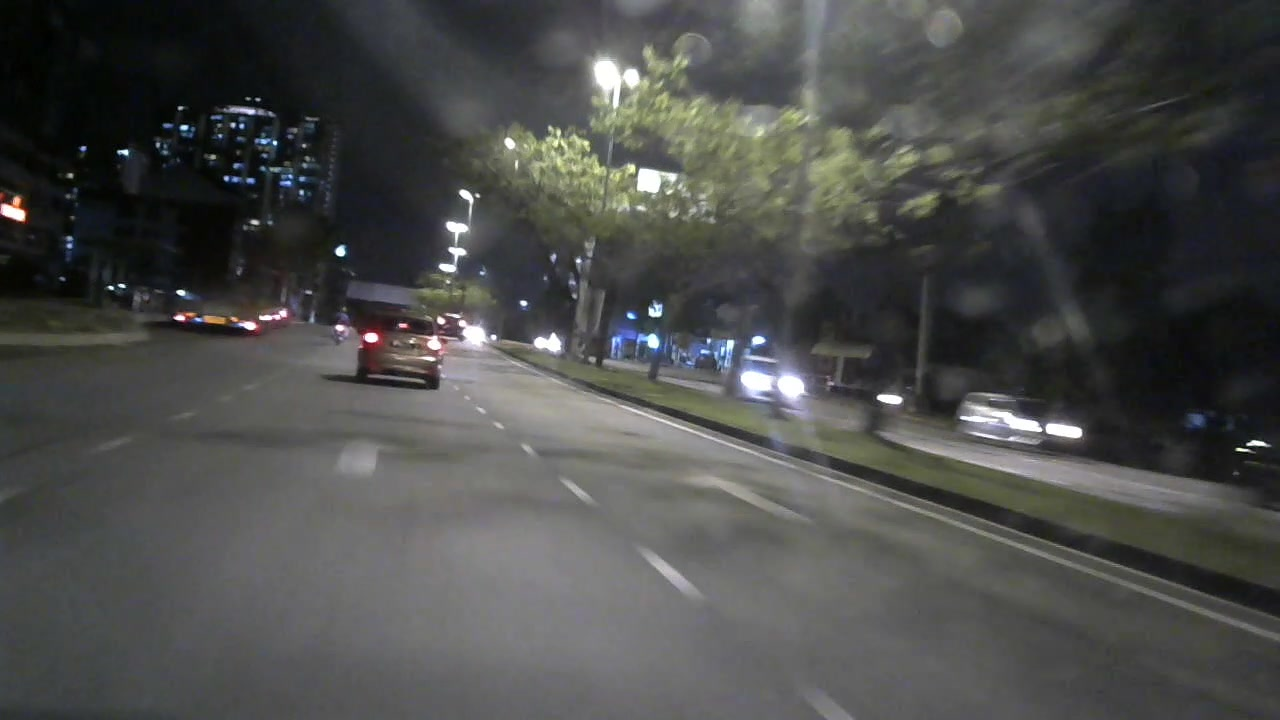Car: (335, 316, 455, 396), (953, 389, 1068, 452), (726, 347, 806, 407)
